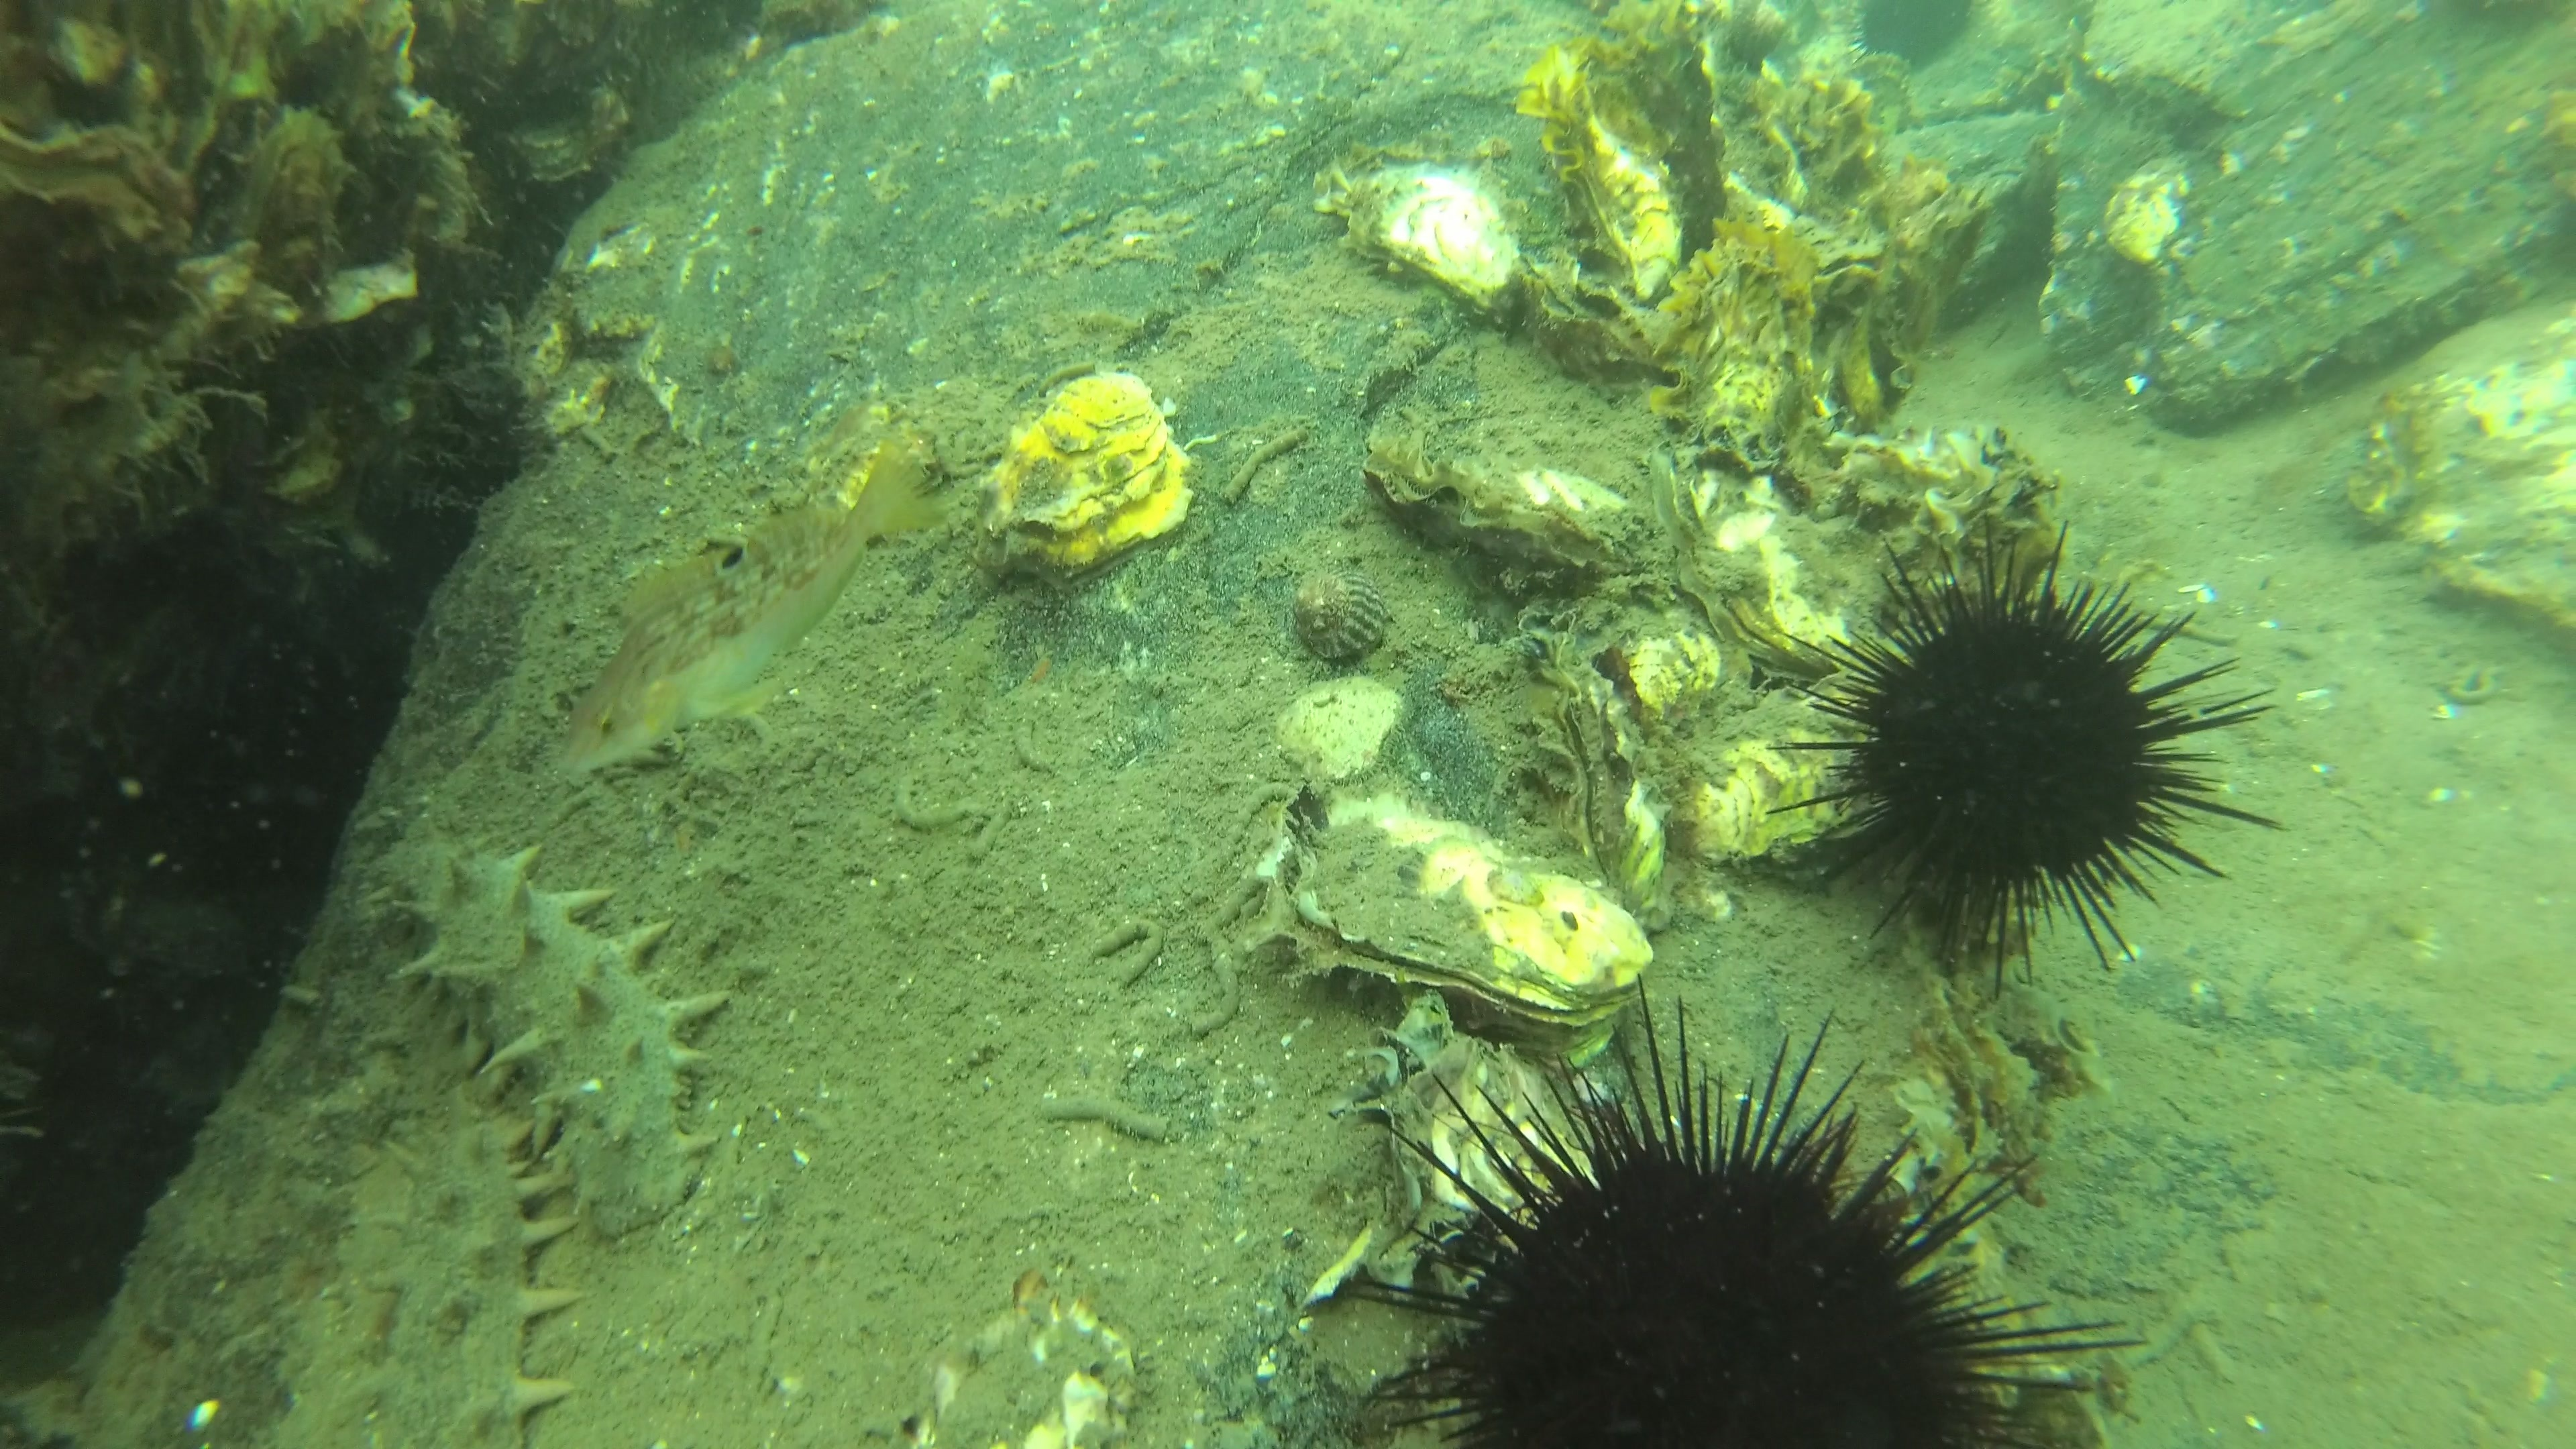echinus: (1346, 1047, 2128, 1449), (1757, 508, 2282, 994)
holothurian: (386, 819, 732, 1240), (361, 1088, 582, 1449)
scallop: (1279, 559, 1396, 671)
